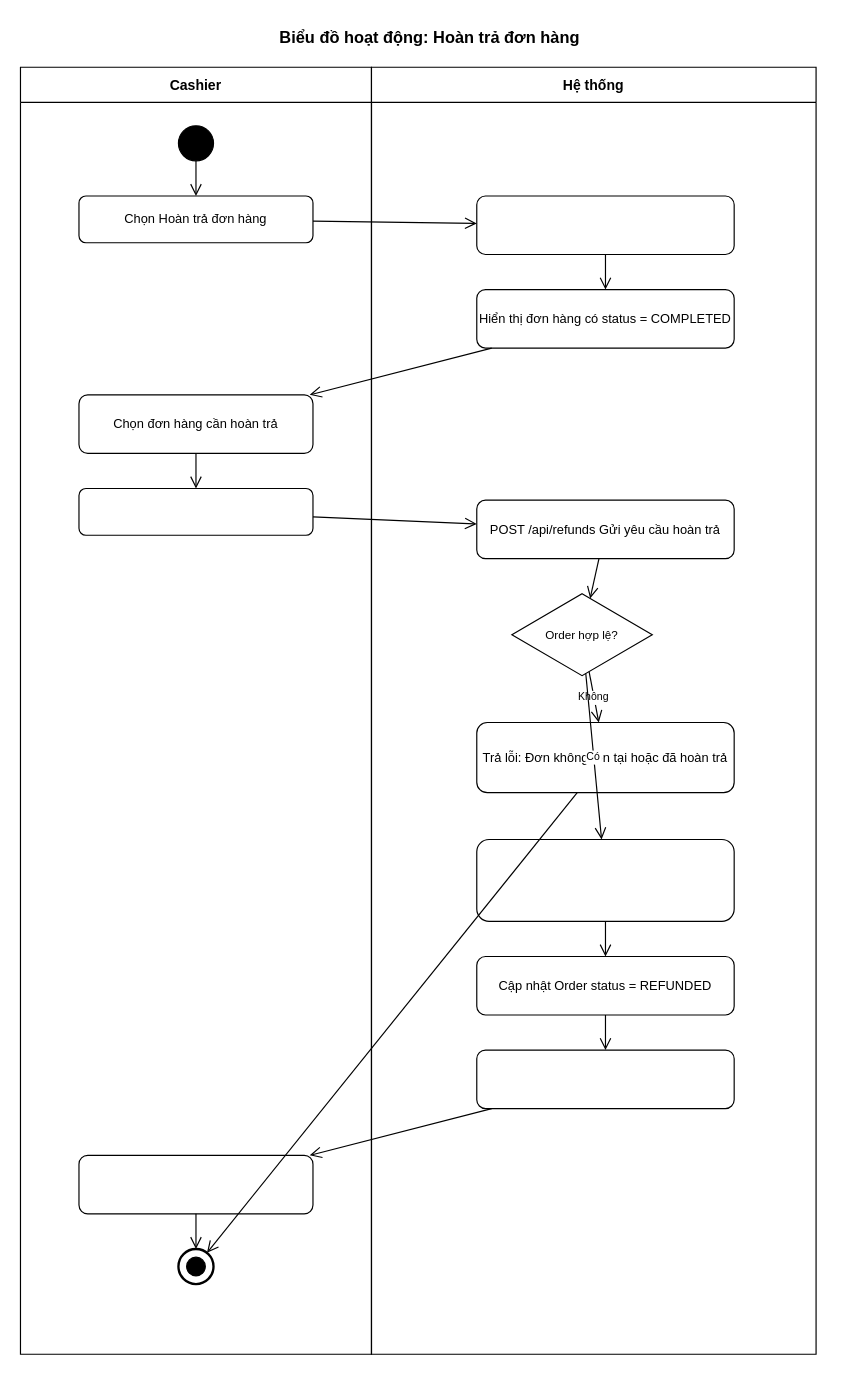
Some shapes in this 860 by 1375 pixel diagram are drawn without their labels. The box of each missing label's shape, as (x1, y1, x2, y2) in pixels:
Lưu Refund + cập nhật Order vào Database: (476, 1049, 734, 1109)
Nhập lý do hoàn trả: (78, 487, 313, 535)
Thông báo hoàn trả thành công: (78, 1154, 313, 1214)
Tạo Refund mới (order, reason, amount, paymentType, cashier, branch): (476, 838, 734, 921)
Tải DS đơn hàng của chi nhánh: (476, 195, 734, 254)
